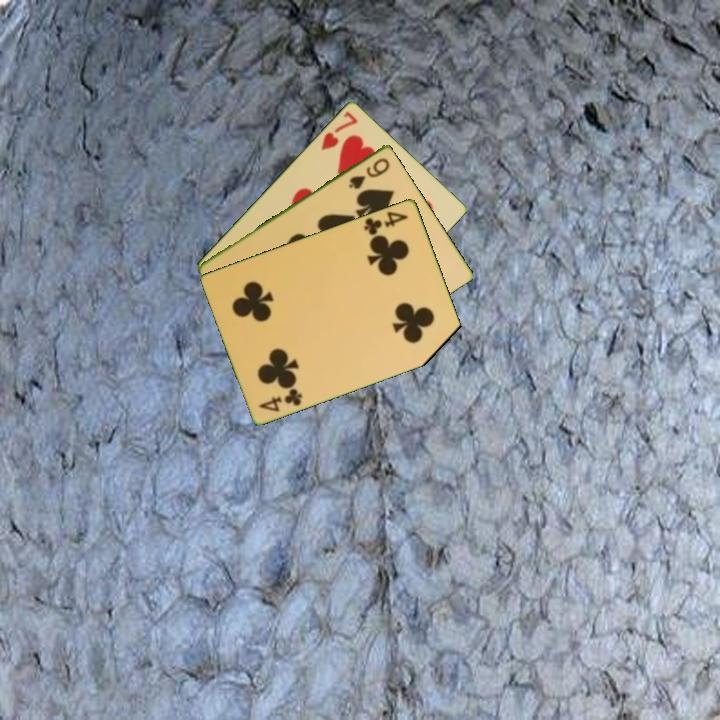4c: (360, 207, 411, 238), (256, 384, 305, 414)
7h: (317, 107, 361, 153)
9s: (345, 154, 393, 192)
